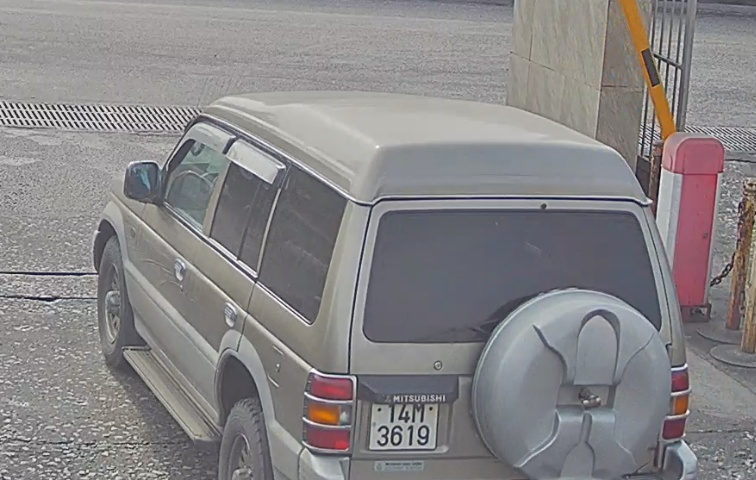vehicle plate: (368, 397, 440, 452)
